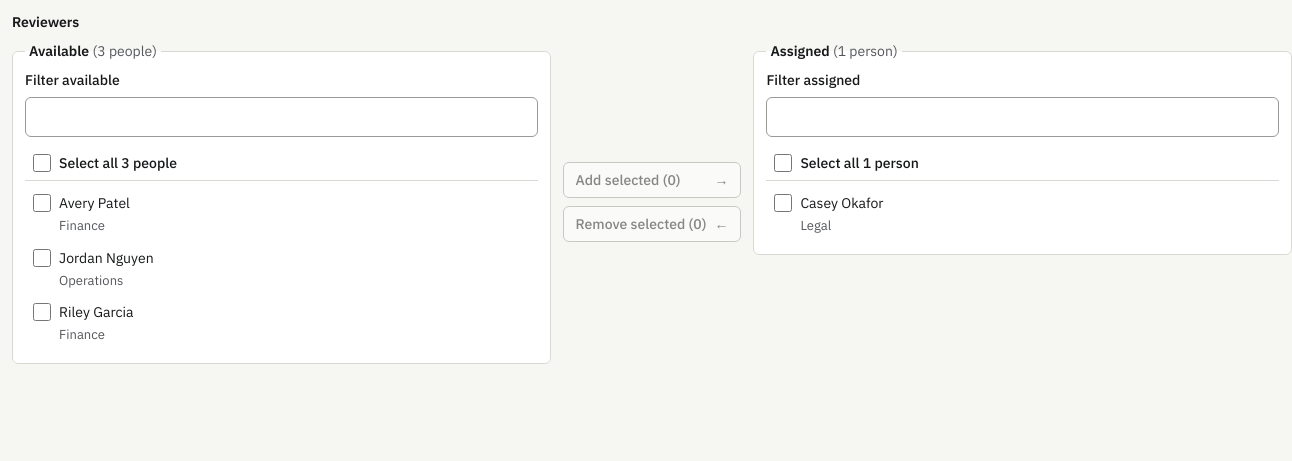
TransferList › names a single moved item and removes from the assigned list
The image size is (1292, 461).
Click the checkbox labelled "Casey Okafor Legal". click: [783, 203]
box: [774,194,792,212]
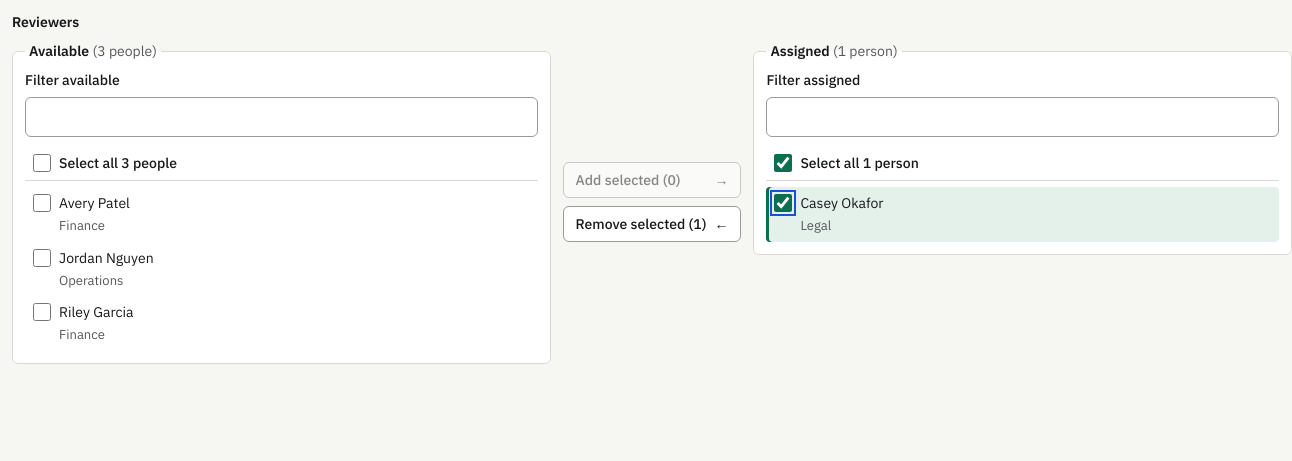
Click the button "Remove selected (1) ←". click: [652, 224]
box: [563,206,741,242]
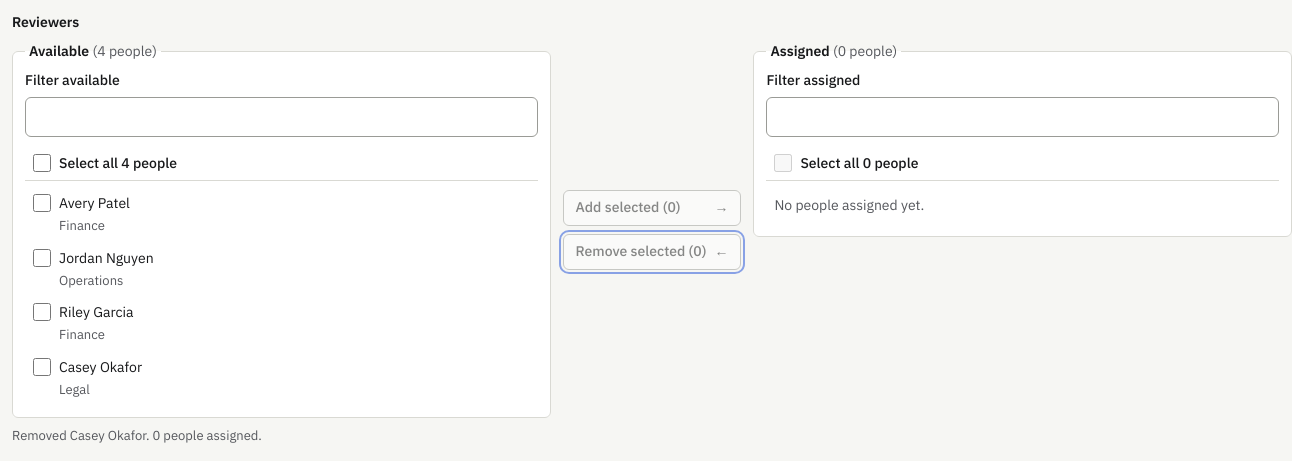
Check: the message reads "Removed Casey Okafor. 0 people assigned.", box [12,427,262,444]
Check: the text "No people assigned yet." is shown, box [774,196,924,214]
